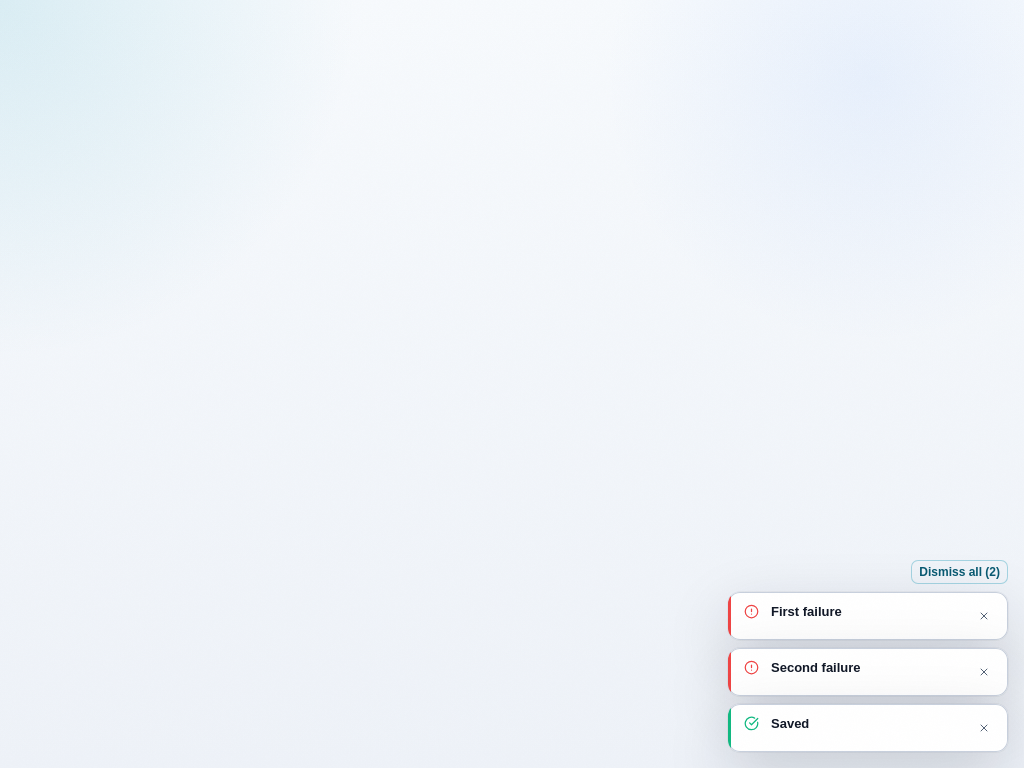
ToastProvider (docs/56 P7-01) › offers Dismiss all once two toasts are waiting to be dismissed, and leaves timed ones alone
The image size is (1024, 768).
Click the button "Dismiss all (2)" at {"x": 960, "y": 572}, box [911,560,1008,584]
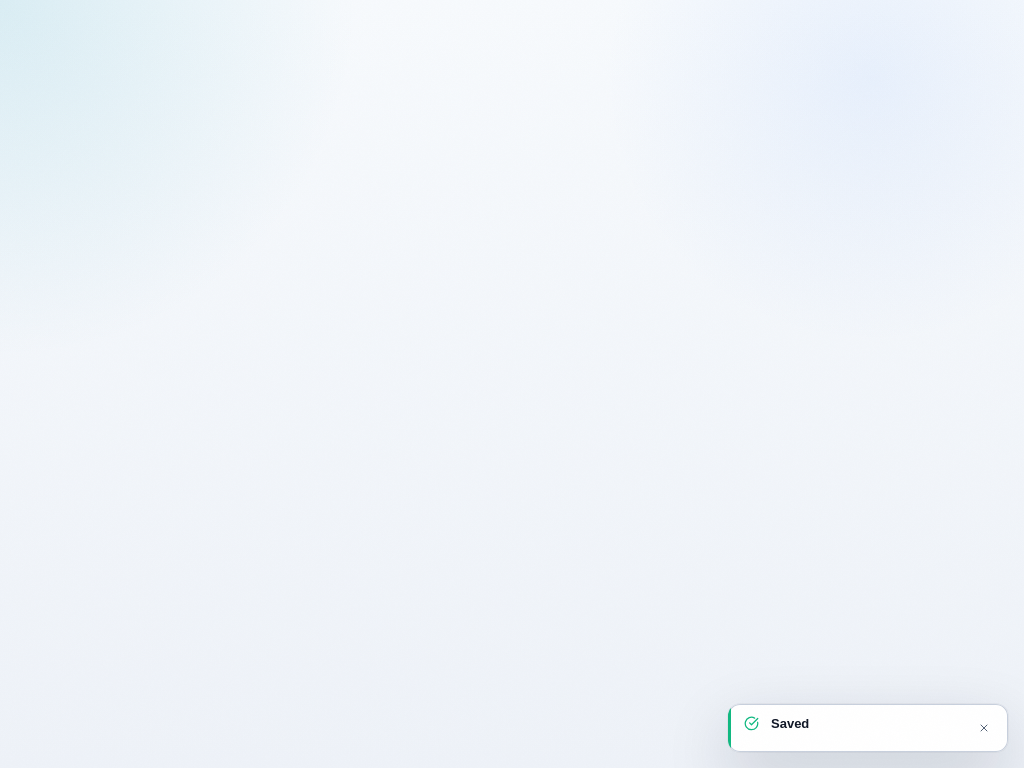
Expected: the text "Saved" is shown, [771,716,809,731]
Expected: the message "First failure" is gone
